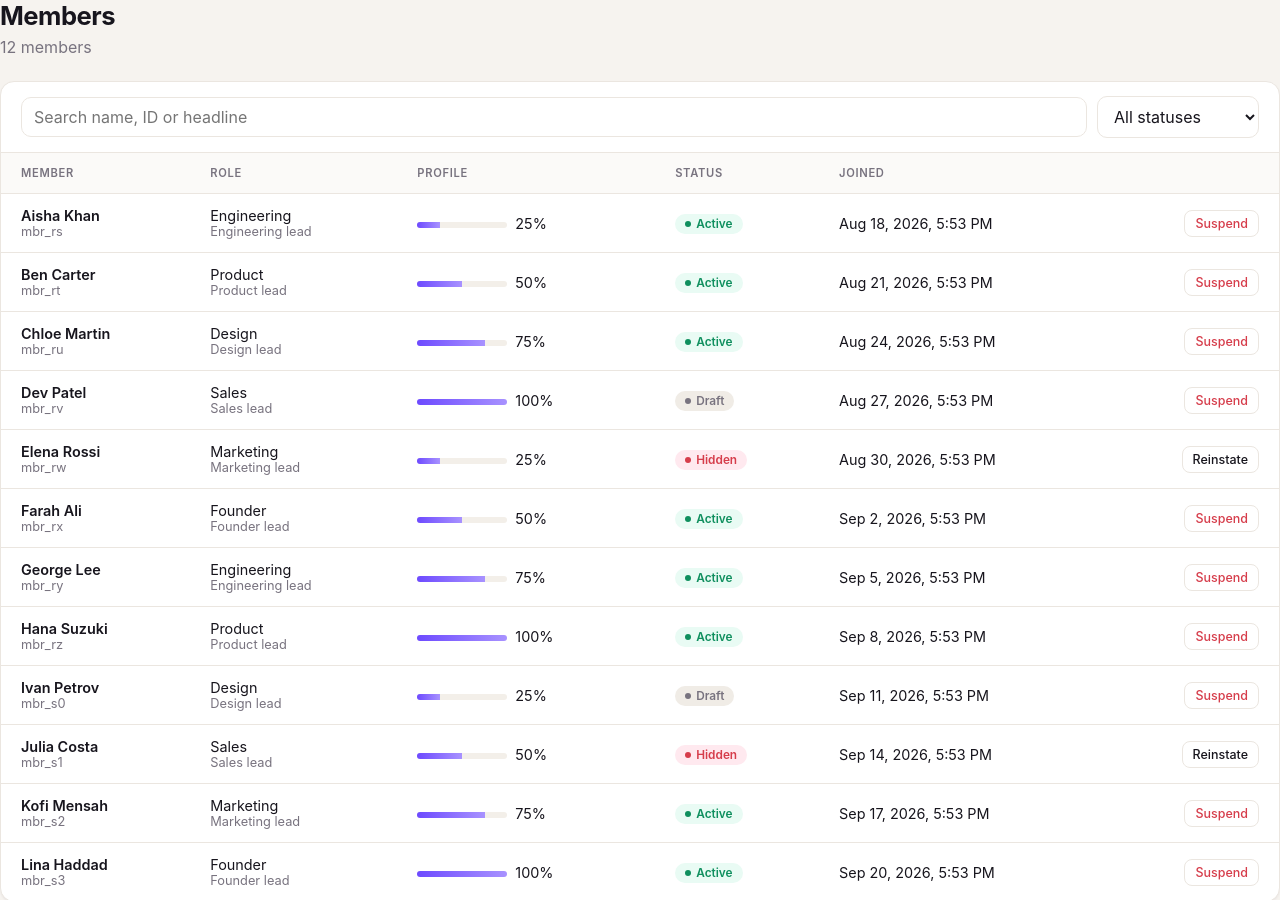
Members › lists and filters members
This screenshot has width=1280, height=900.
Check: the text "Aisha Khan" is shown, box [21,207,100,224]
Type "ben" into the search field named "Search members" at coordinates (554, 117), box [21,97,1087,137]
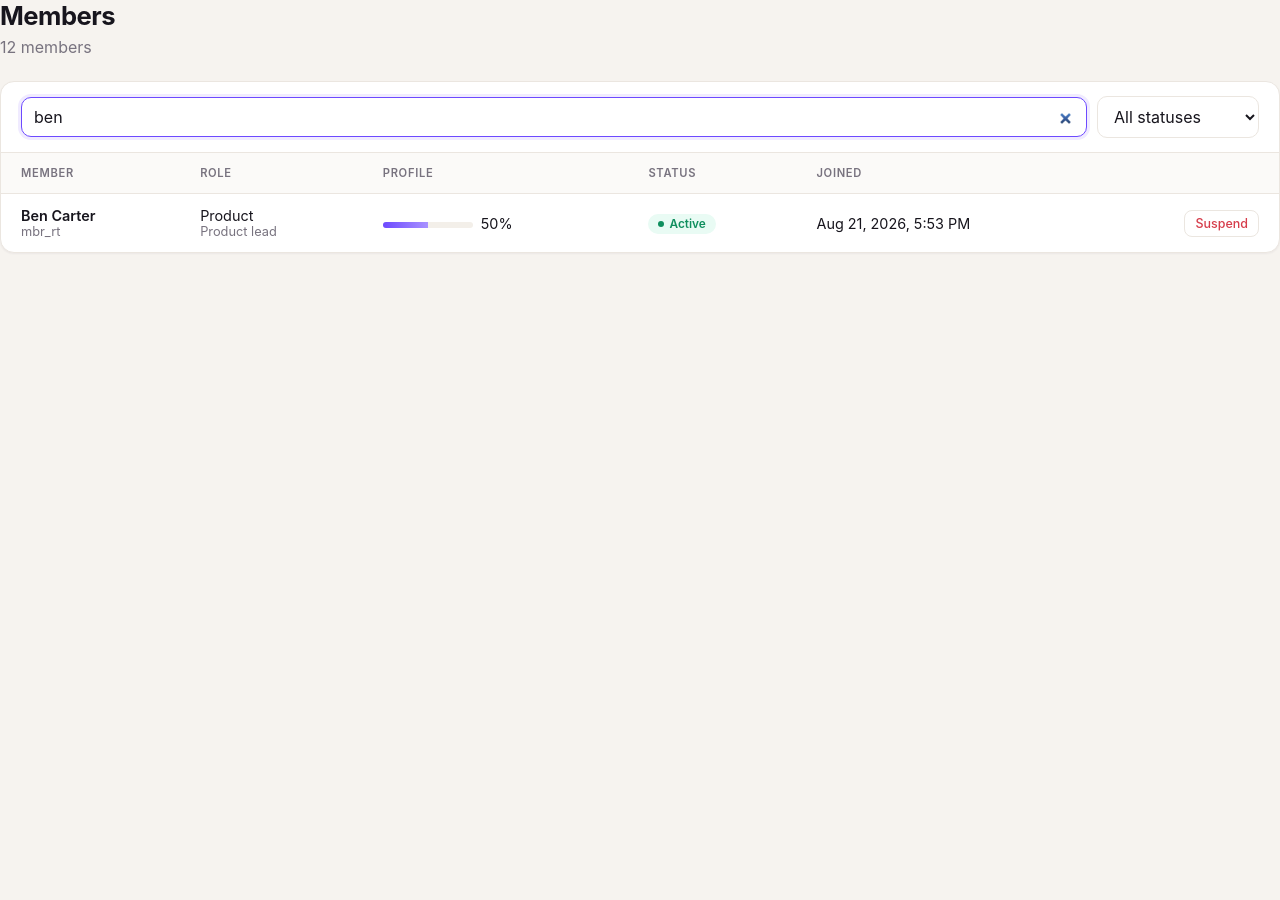
Check: the text "Ben Carter" is shown, box [21,207,95,224]
Check: the text "Aisha Khan" is gone
